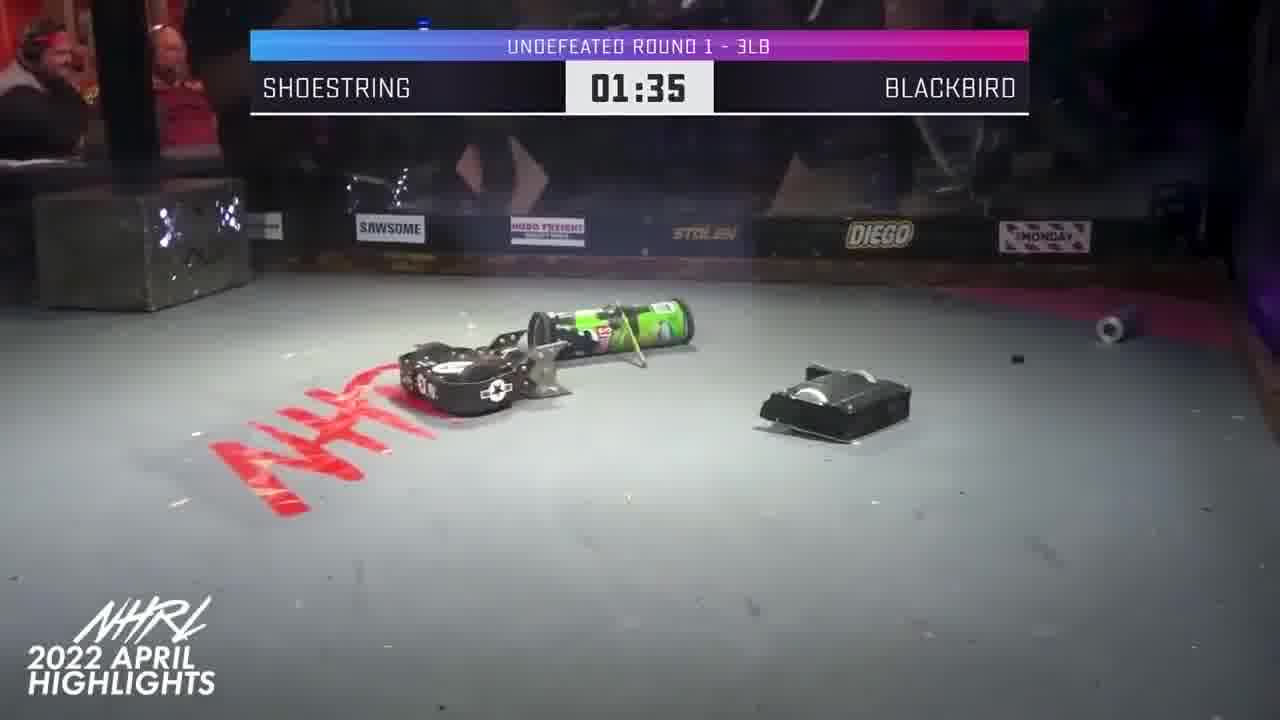combatbot: (394, 321, 574, 419), (524, 296, 699, 372), (752, 362, 914, 444)
debris: (1093, 304, 1147, 343)
housebot: (33, 180, 257, 315)
